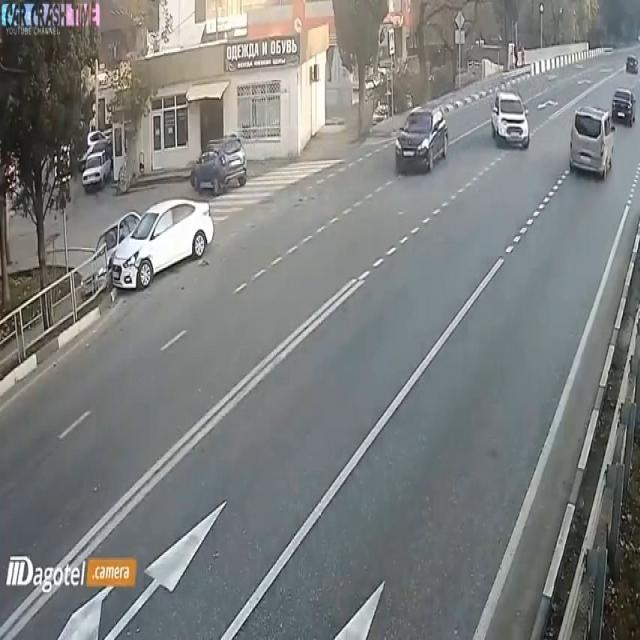Accident: (96, 195, 230, 294)
